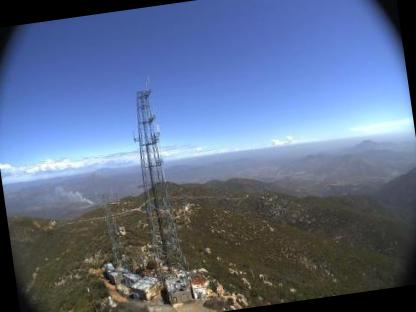Smoke: (45, 176, 99, 214)
